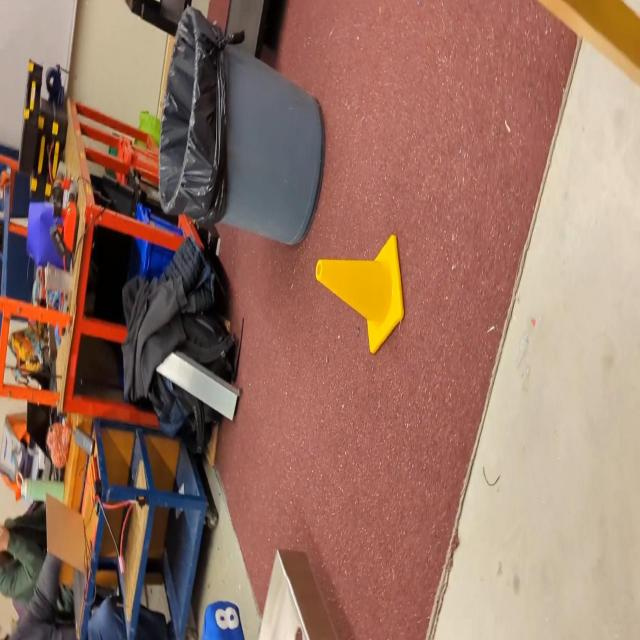frc_cone: (316, 235, 406, 355)
